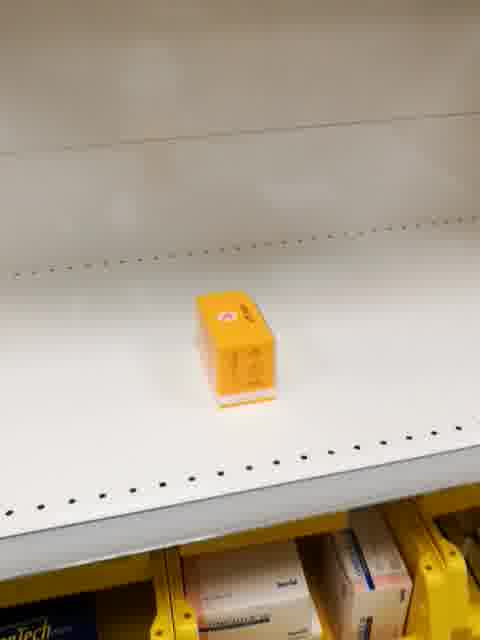jasminetea: (195, 288, 277, 408)
